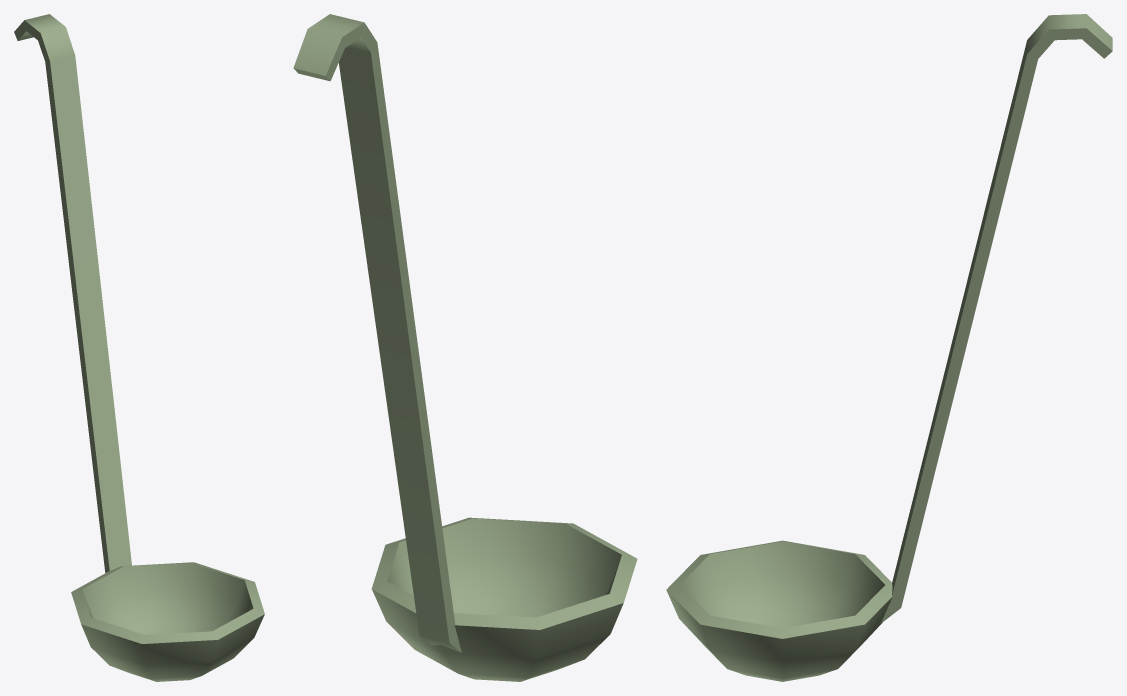
The model's file is Ladle_01.fbx.
The picture shows the model from 3 angles, left to right: view 1: azimuth 30°, elevation 25°; view 2: azimuth 150°, elevation 25°; view 3: azimuth 270°, elevation 25°; orthographic projection. The views are drawn at different scales.
Parts seen in each view (by area): view 1: Ladle_01; view 2: Ladle_01; view 3: Ladle_01.
Part boxes in pixels (x1=…): Ladle_01: x1=14, y1=14, x2=264, y2=681; Ladle_01: x1=293, y1=14, x2=637, y2=681; Ladle_01: x1=666, y1=14, x2=1112, y2=681.
Bounding box in the file's own units: 0.1104 × 0.3344 × 0.2117.
